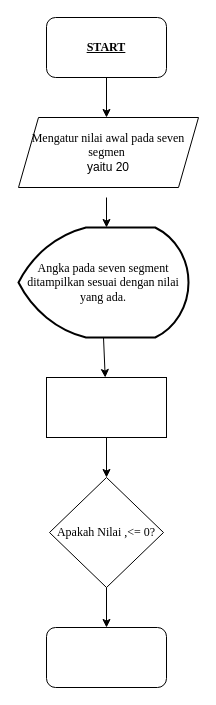
The diagram is 216 pixels wide and 705 high, and some of its shapes have lost their labels. Here are the shapes that lost their labels. From the top down, the centre of each, then its label:
the point at 106,407: Nilai pada seven segment ditambah 1.
the point at 106,657: end
